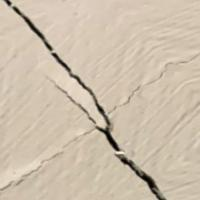crack: (2, 1, 164, 198)
